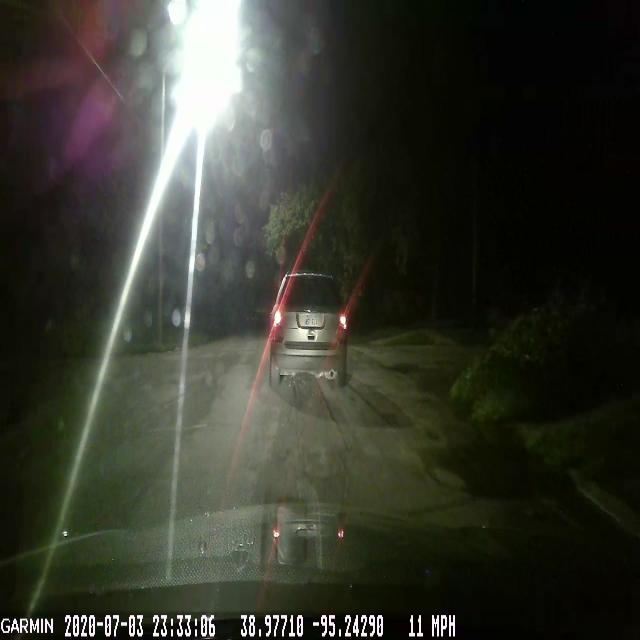Pothole: (424, 420, 580, 510)
